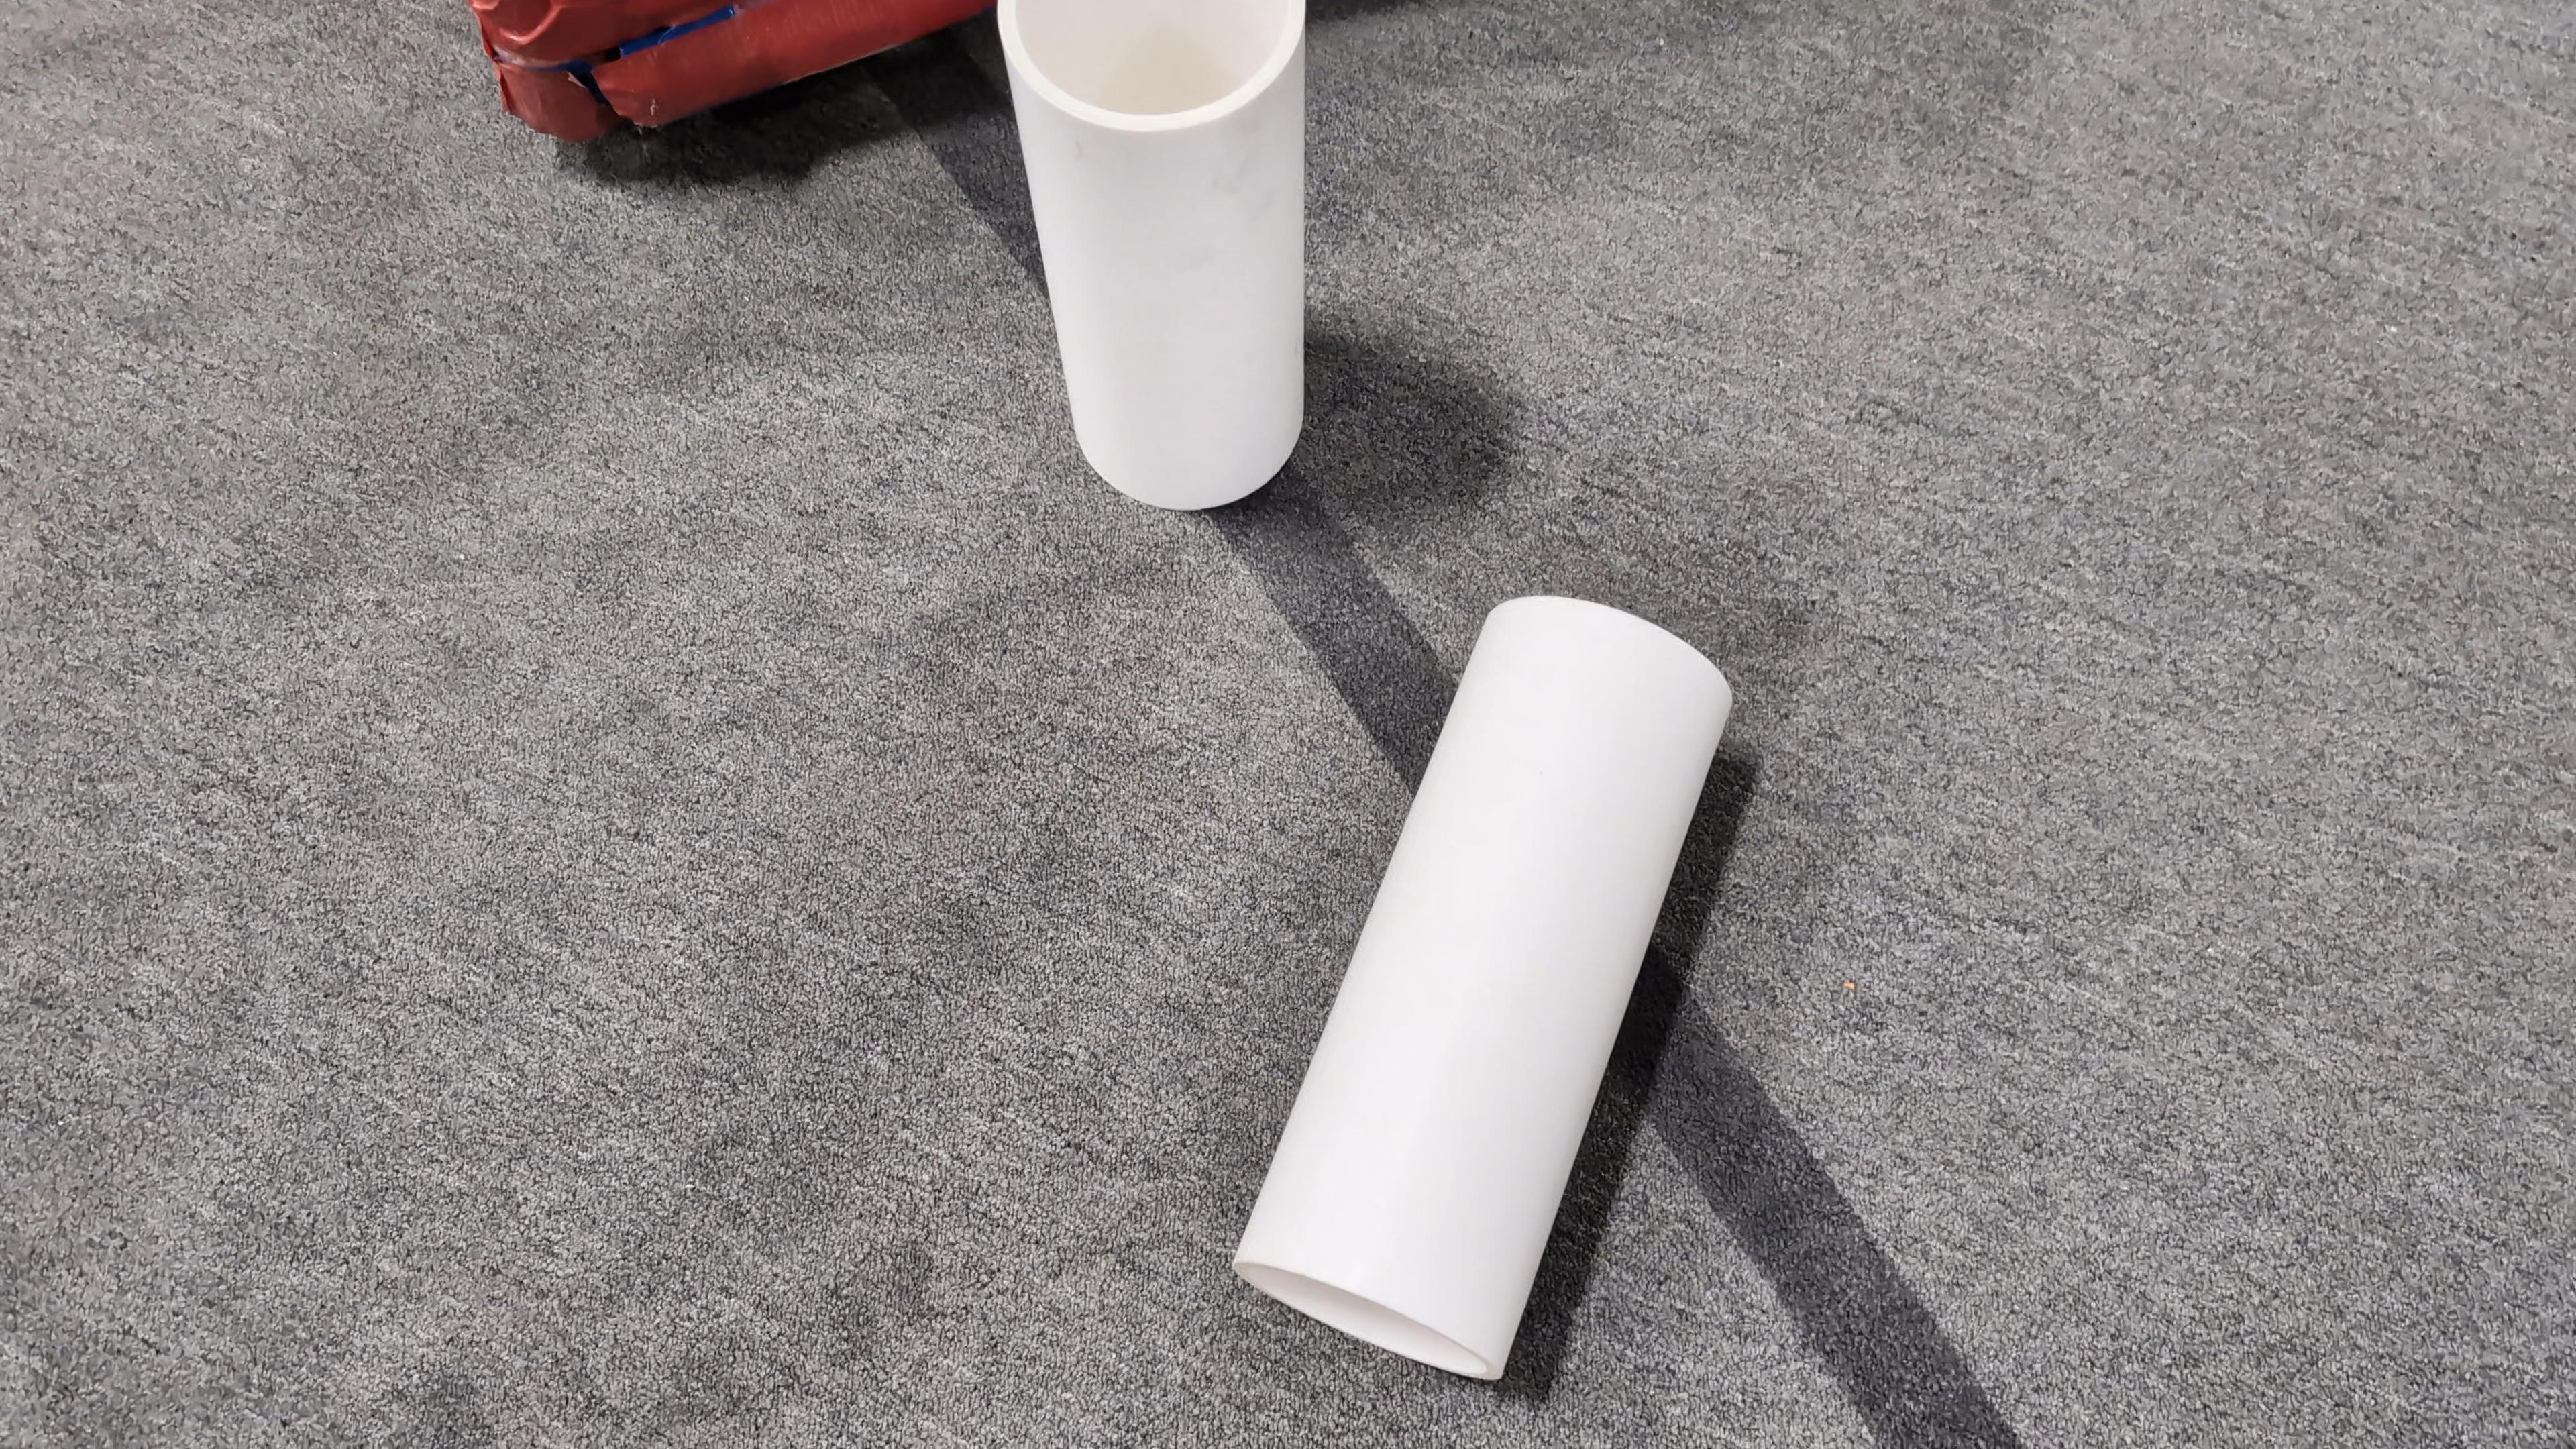coral: (1231, 596, 1734, 1378), (998, 0, 1306, 508)
